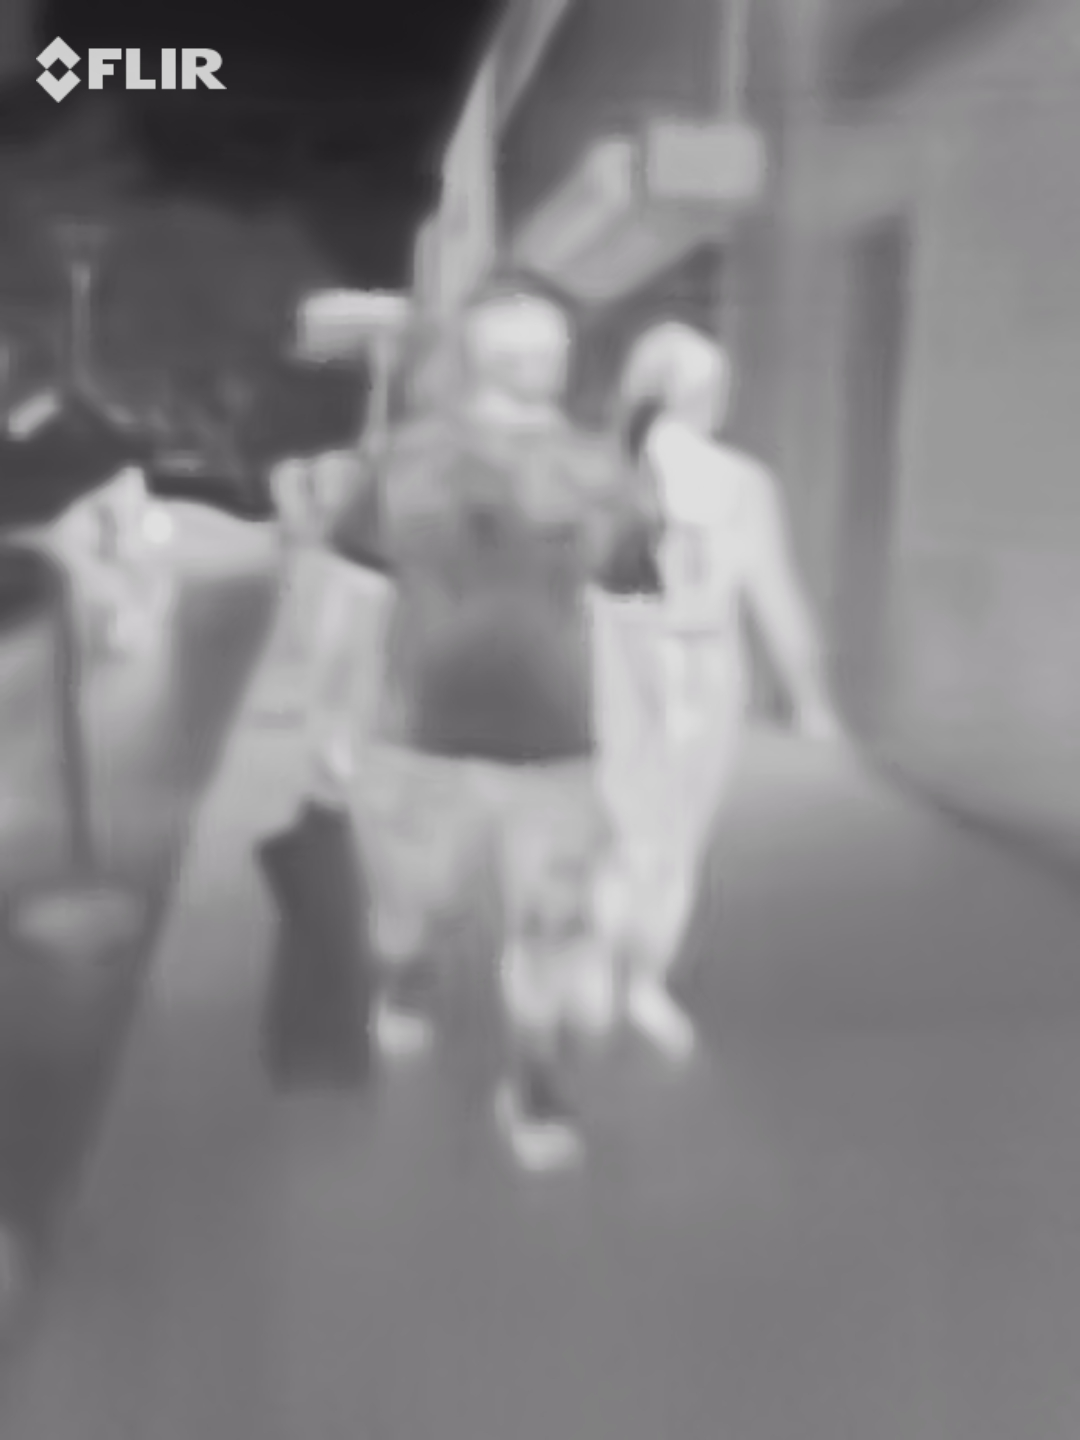head: (456, 263, 579, 413), (619, 313, 733, 444)
